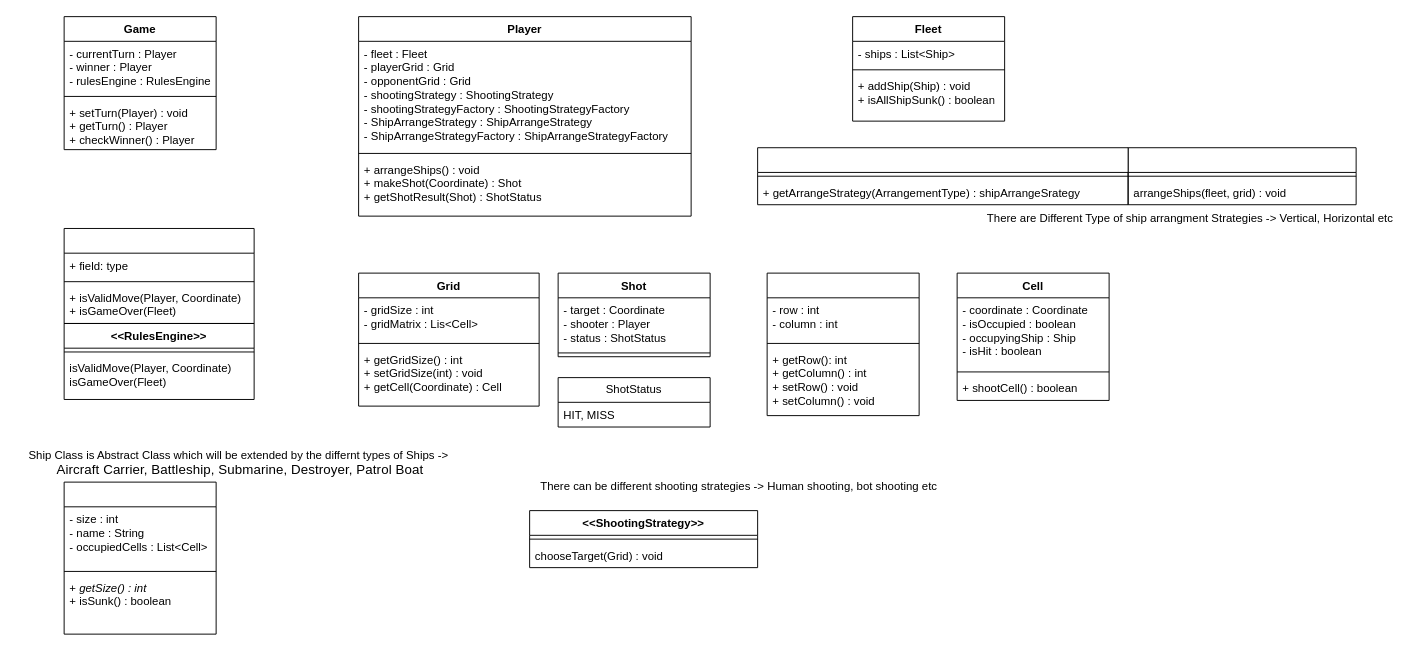
Some shapes in this 1419 by 654 pixel diagram are drawn without their labels. The box of each missing label's shape, as (x1, y1, x2, y2) in pixels:
<<ShipArrangeStrategy>>: (1127, 147, 1356, 205)
<Abstract> Ship: (63, 481, 216, 634)
Coordinate: (766, 272, 919, 416)
DefaultRulesEngine: (63, 228, 254, 323)
ShipArrangeStrategyFactory: (757, 147, 1128, 205)
